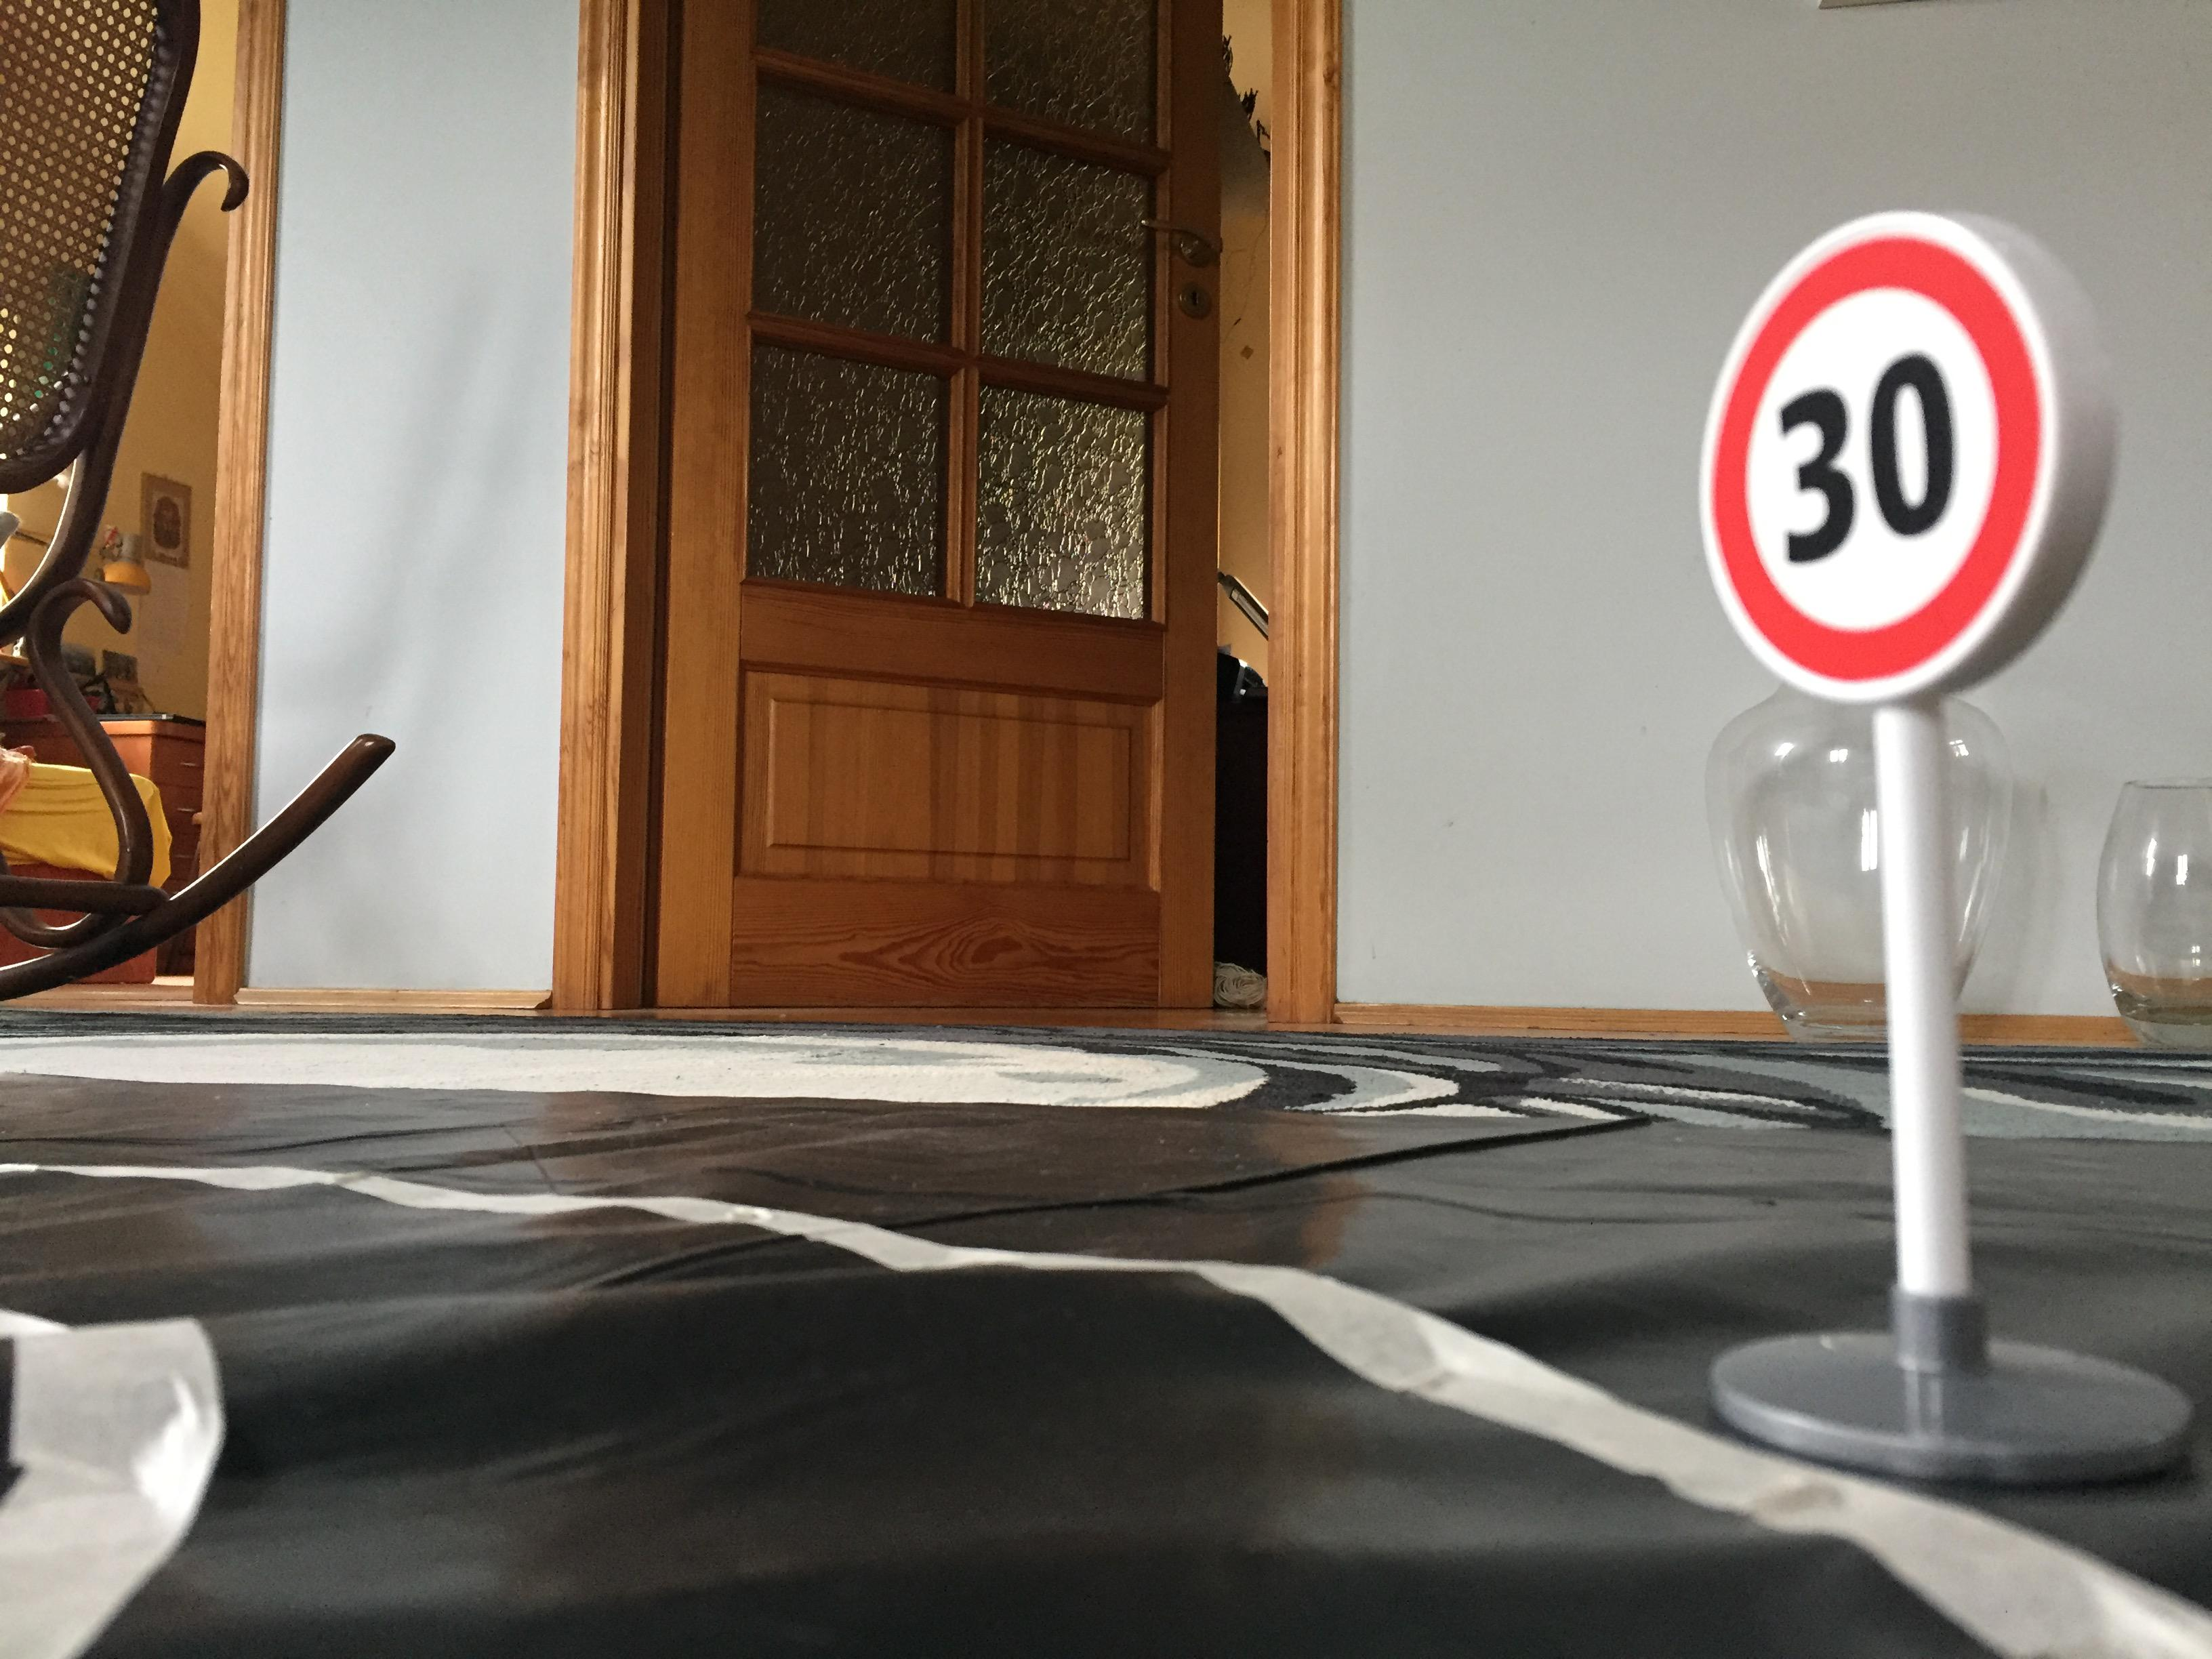speed: (1679, 195, 2142, 713)
